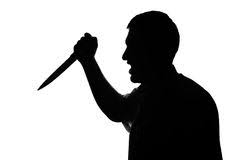knife: (37, 31, 100, 93)
